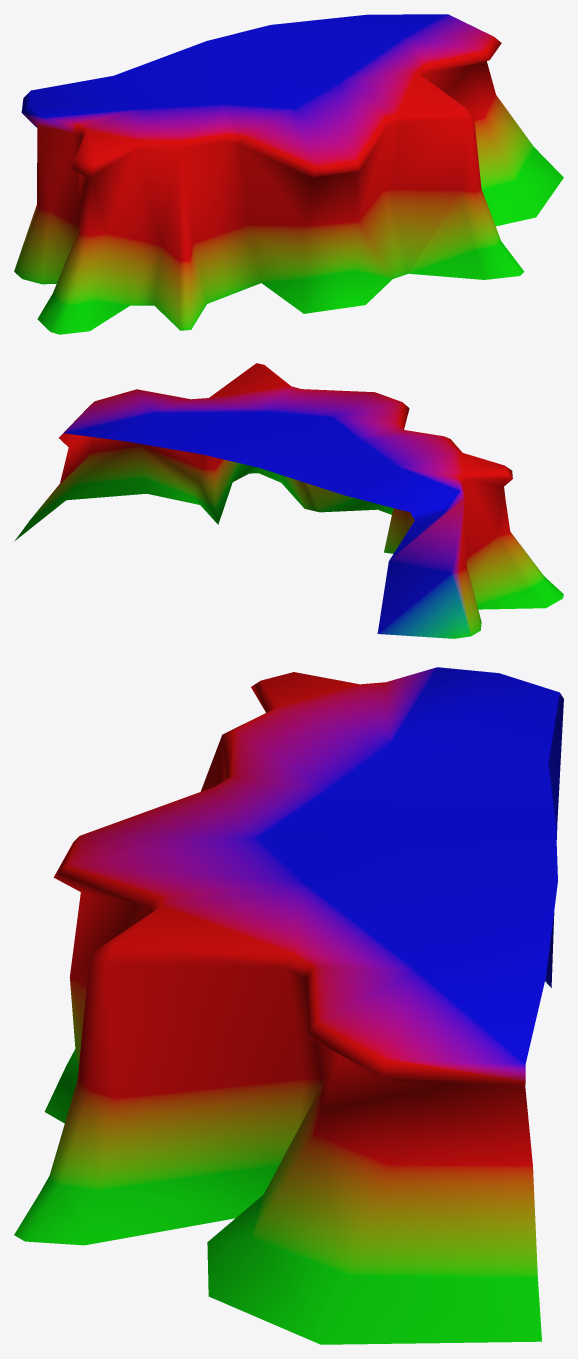
Rendered from M_Rock_Cliff_C.FBX.
3 renders of one model, top to bottom at view 1: azimuth 30°, elevation 25°; view 2: azimuth 150°, elevation 25°; view 3: azimuth 270°, elevation 25°, orthographic. The views are drawn at different scales.
Visible parts, largest first — view 1: Rock_Cliff_C; view 2: Rock_Cliff_C; view 3: Rock_Cliff_C.
Boxes of the visible parts, bbox=[...] form: Rock_Cliff_C: bbox=[14, 14, 563, 334]; Rock_Cliff_C: bbox=[14, 363, 563, 638]; Rock_Cliff_C: bbox=[14, 667, 563, 1344].
Bounding box in the file's own units: 538 × 151 × 273.
